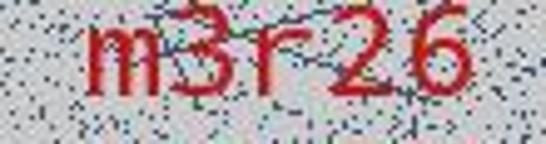2: (327, 1, 399, 103)
3: (169, 3, 237, 102)
6: (408, 1, 483, 107)
m: (83, 16, 164, 108)
r: (249, 13, 315, 100)
